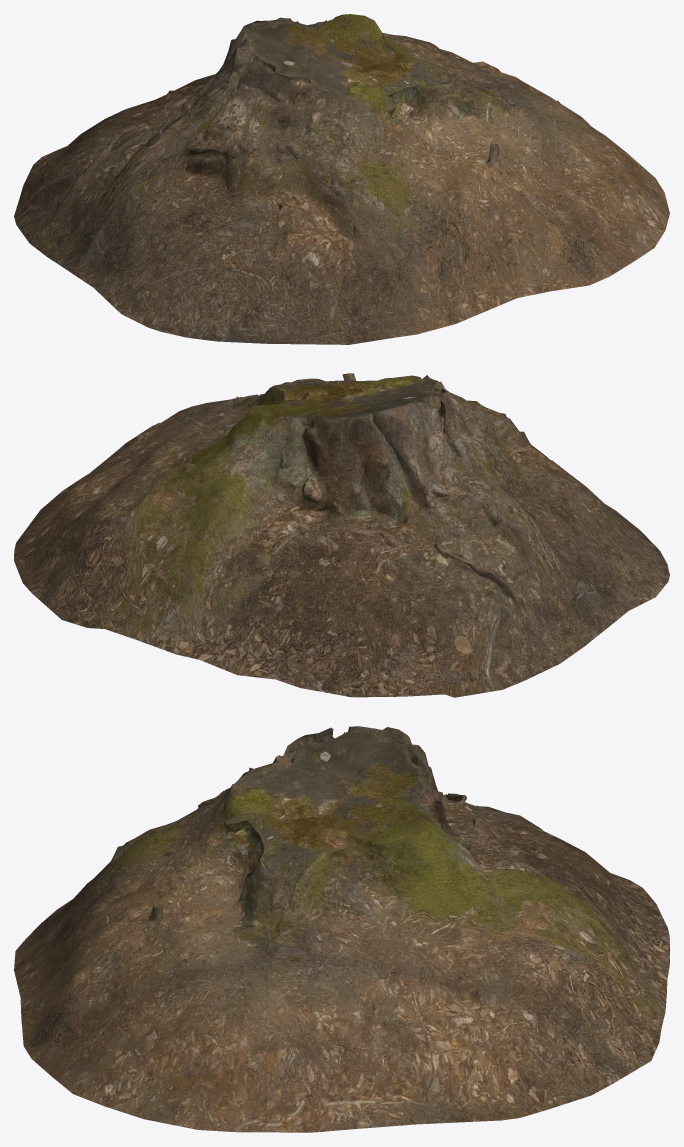
File: stump_mossy.glb
3 views of the same model, one above another, from view 1: azimuth 30°, elevation 25°; view 2: azimuth 150°, elevation 25°; view 3: azimuth 270°, elevation 25° (orthographic). The views are drawn at different scales.
Parts seen in each view (by area): view 1: tree_stump_02; view 2: tree_stump_02; view 3: tree_stump_02.
Boxes of the visible parts, box(x1,y1,x2,y2) form: tree_stump_02: box(14, 14, 669, 344); tree_stump_02: box(14, 373, 669, 697); tree_stump_02: box(14, 726, 669, 1132).
Size of the model in its own units: 1.52 by 0.5196 by 1.39.
1 material, 1 textured.
